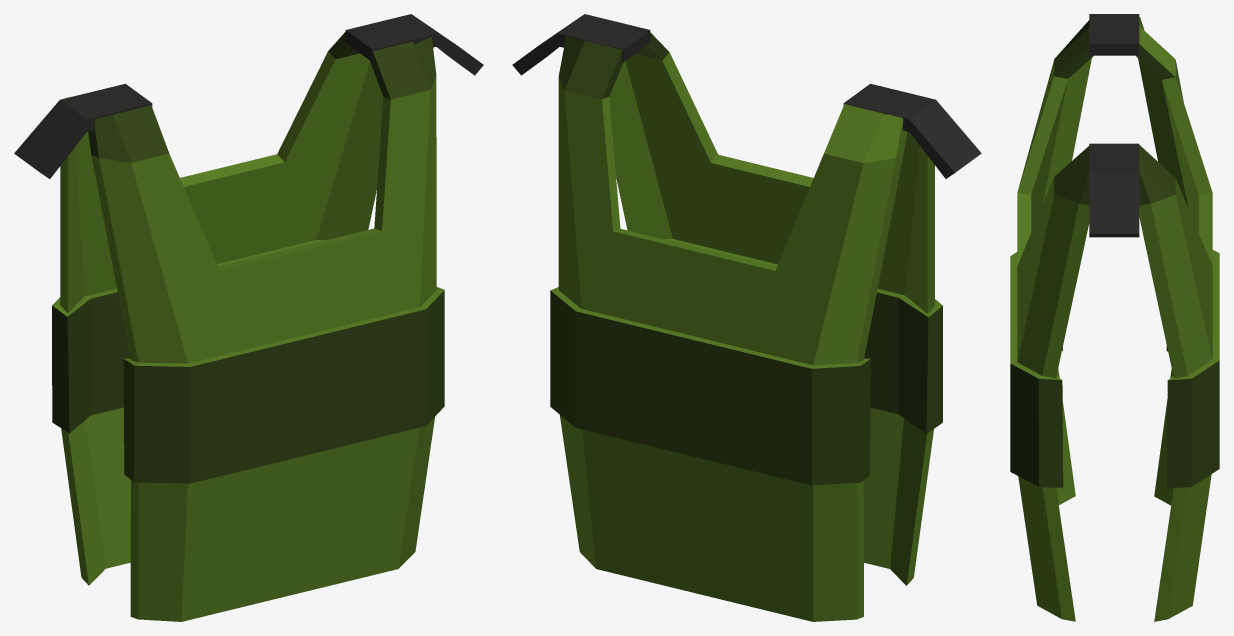
File: vest.fbx
The picture shows the model from 3 angles, left to right: view 1: azimuth 30°, elevation 25°; view 2: azimuth 150°, elevation 25°; view 3: azimuth 270°, elevation 25°; orthographic projection. The views are drawn at different scales.
Visible parts, largest first — view 1: Plane; view 2: Plane; view 3: Plane.
Boxes of the visible parts, x1=… form: Plane: x1=14, y1=14, x2=483, y2=621; Plane: x1=512, y1=14, x2=981, y2=621; Plane: x1=1010, y1=14, x2=1219, y2=621.
Size of the model in its own units: 297 by 321 by 131.
